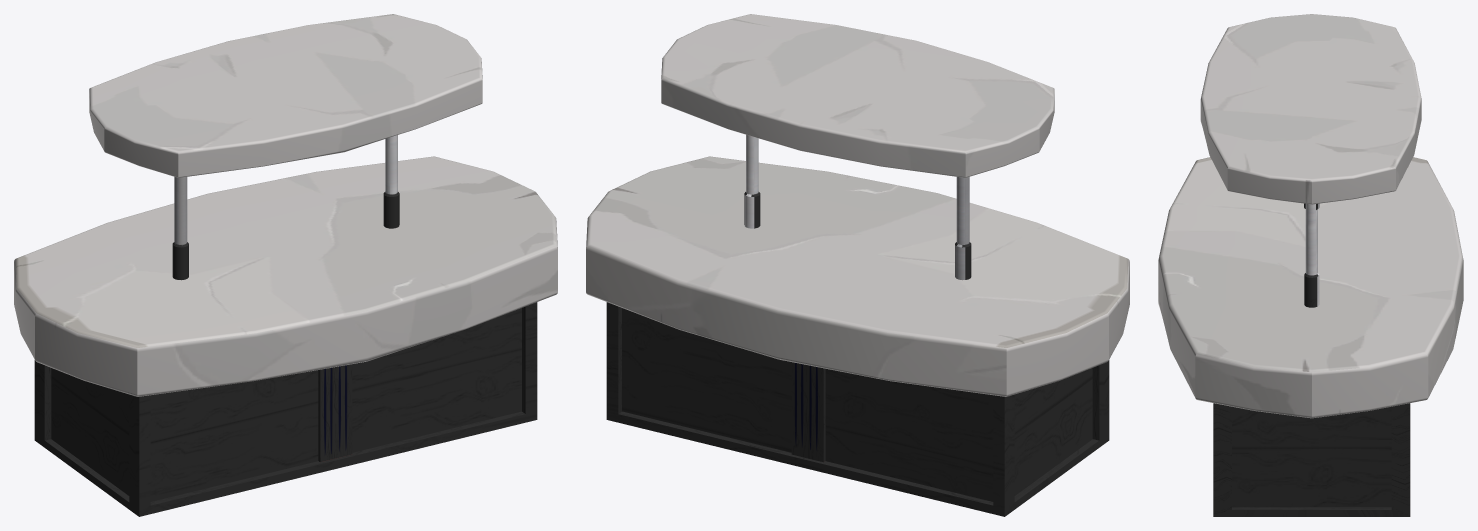
Rendered from ShoeTable1.fbx.
The picture shows the model from 3 angles, left to right: view 1: azimuth 30°, elevation 25°; view 2: azimuth 150°, elevation 25°; view 3: azimuth 270°, elevation 25°; orthographic projection. The views are drawn at different scales.
Visible parts, largest first — view 1: pCylinder6; view 2: pCylinder6; view 3: pCylinder6.
Part boxes in pixels (x1,y1,x2,y2): pCylinder6: (14, 14, 557, 516); pCylinder6: (586, 14, 1129, 516); pCylinder6: (1158, 14, 1463, 516).
Size of the model in its own units: 8.32 by 5.51 by 4.64.
1 material, 1 textured.
